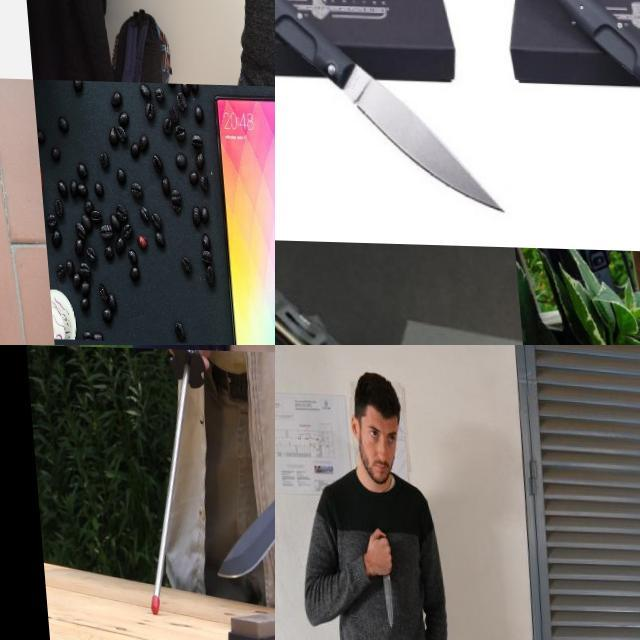-: (3, 345, 275, 462), (329, 55, 502, 214), (192, 421, 275, 588), (367, 524, 393, 629)
